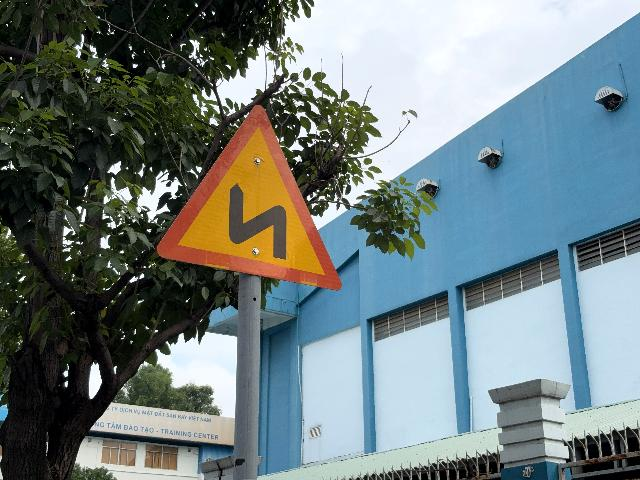nhieu-cho-ngoat-nguy-hiem-lien-tiep: (157, 104, 342, 291)
